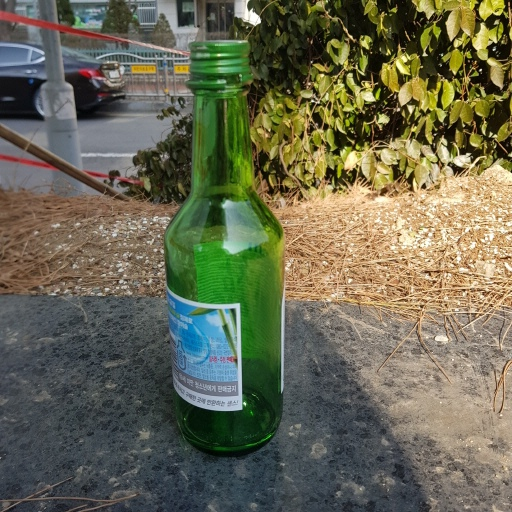Glass_0: (156, 40, 292, 453)
